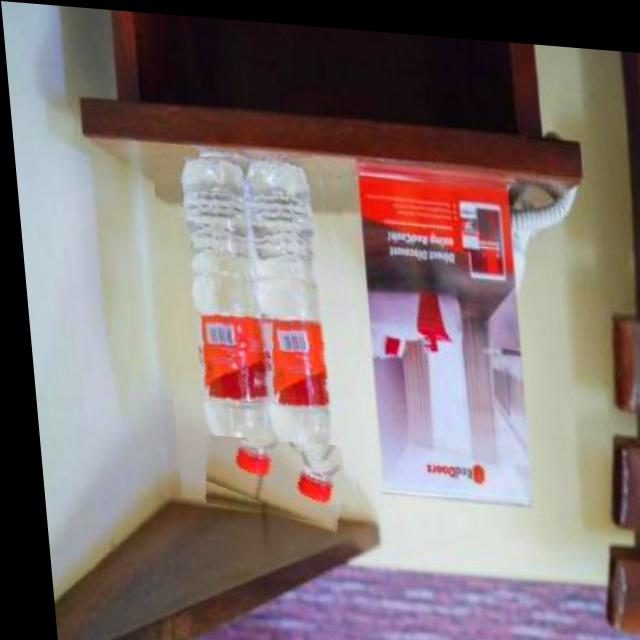litter: (147, 141, 358, 506), (191, 430, 338, 521)
